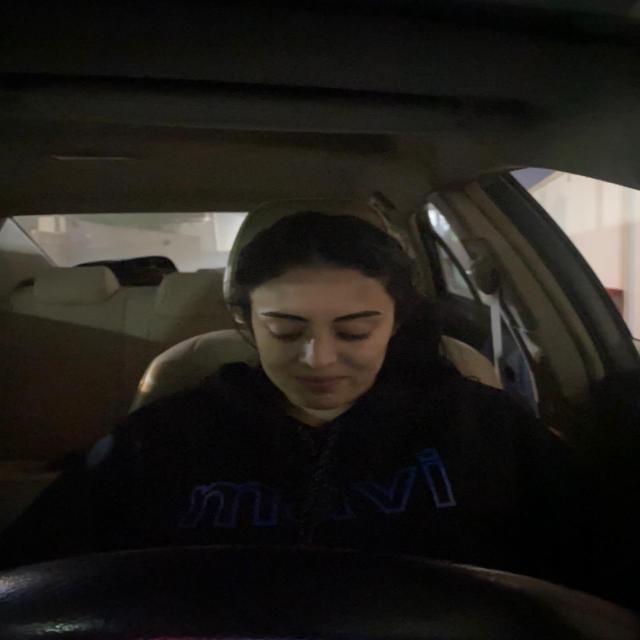drowsy: (223, 220, 412, 414)
